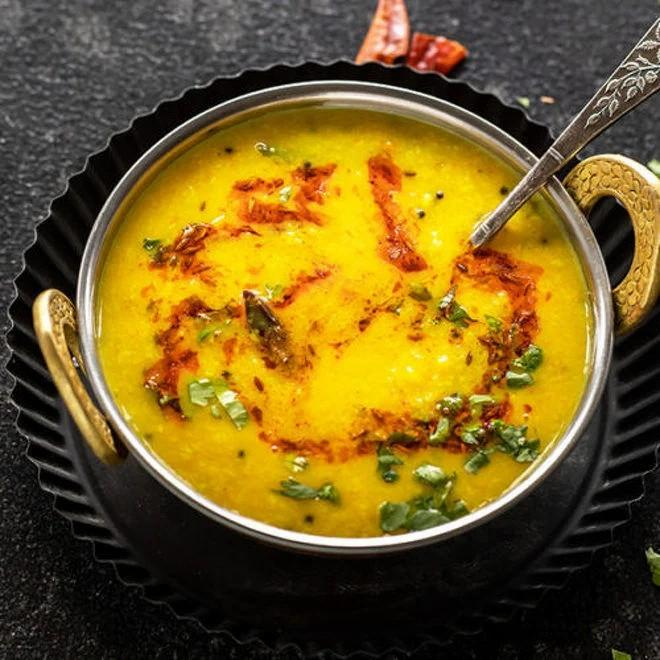Dal: (99, 106, 589, 534)
